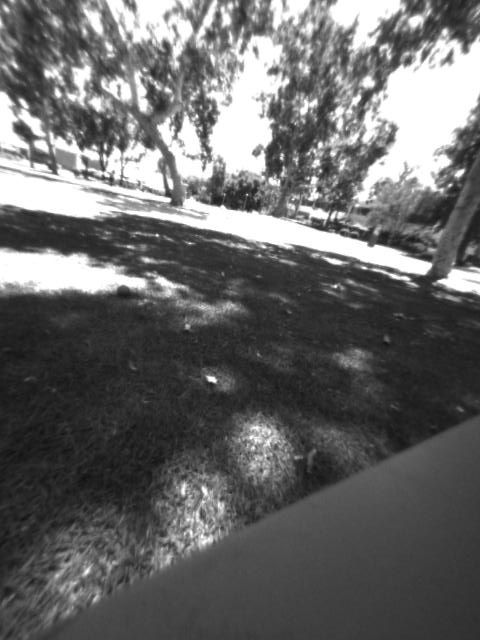dogtoy: (106, 277, 142, 304)
